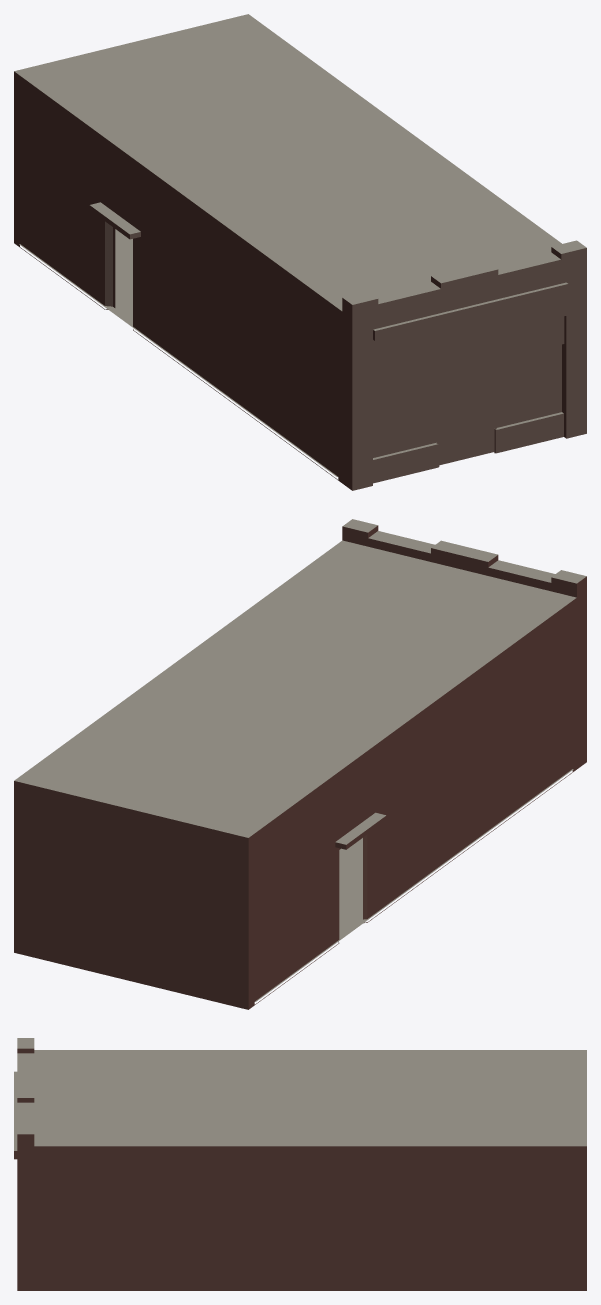
File: rural-store-5.far-facades-v3.lod2.glb
3 renders of one model, top to bottom at view 1: azimuth 30°, elevation 25°; view 2: azimuth 150°, elevation 25°; view 3: azimuth 270°, elevation 25°, orthographic. The views are drawn at different scales.
Parts seen in each view (by area): view 1: rural-store-5; view 2: rural-store-5; view 3: rural-store-5.
Boxes of the visible parts, x1,y1,x2,y2 form: rural-store-5: (14,14,586,490); rural-store-5: (14,519,586,1009); rural-store-5: (14,1038,586,1290).
Size of the model in its own units: 8.38 by 6.06 by 20.12.
